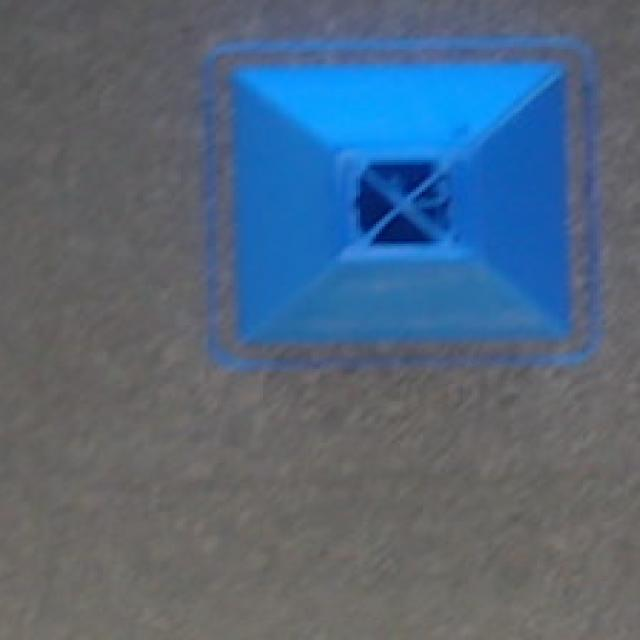mistake: (208, 40, 596, 362)
